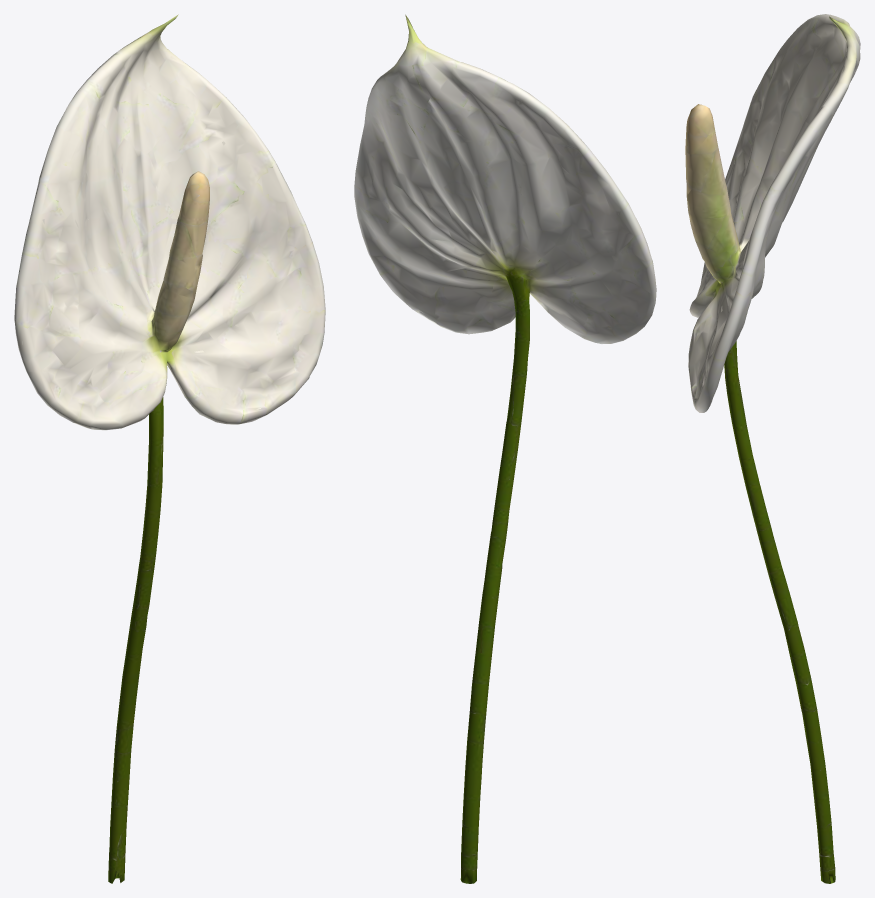
Rendered from anthurium.glb.
3 renders of one model, left to right at view 1: azimuth 30°, elevation 25°; view 2: azimuth 150°, elevation 25°; view 3: azimuth 270°, elevation 25°, orthographic. The views are drawn at different scales.
Bounding box in the file's own units: 0.702 × 1.9 × 0.3364.
1 material, 1 textured.
